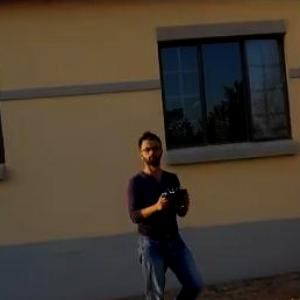follow: (122, 128, 207, 299)
